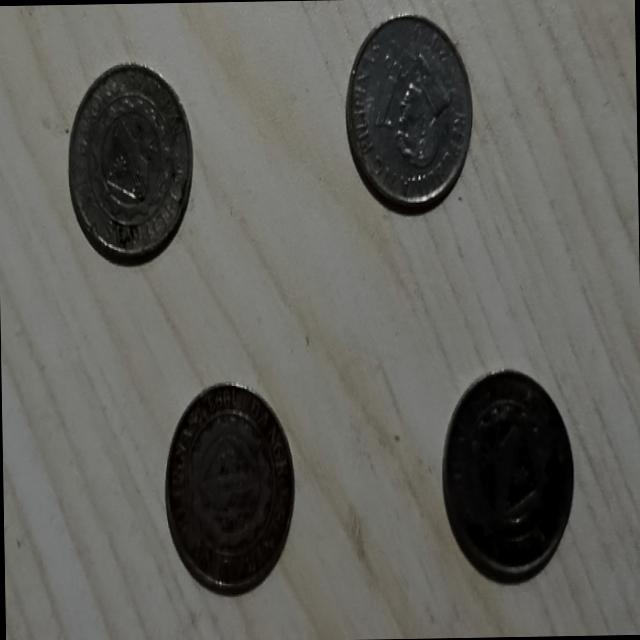1_peso: (443, 372, 572, 580), (165, 384, 293, 592), (68, 64, 192, 262), (346, 14, 470, 205)
